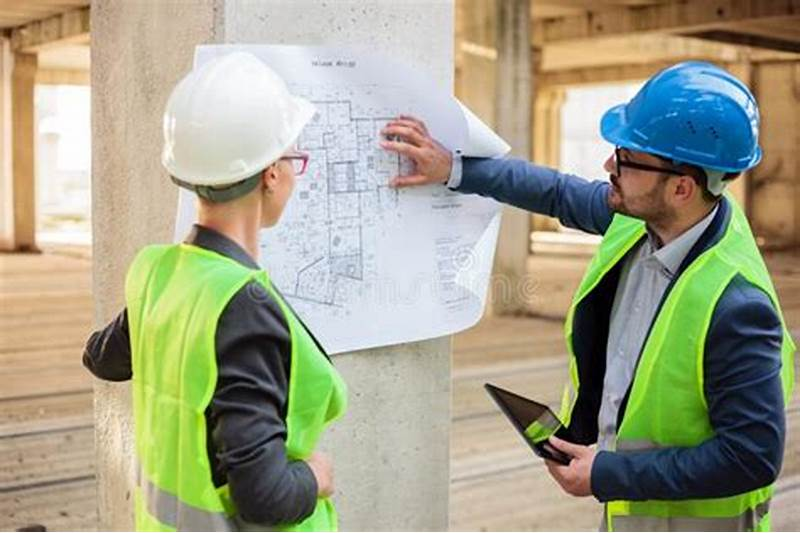safetyhat: (493, 37, 789, 526), (118, 55, 356, 528)
